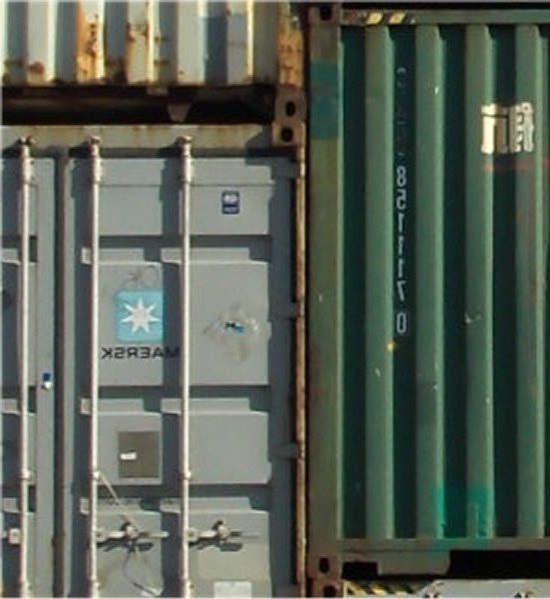container_door: (5, 119, 306, 596)
container_no_door: (308, 10, 550, 576)
